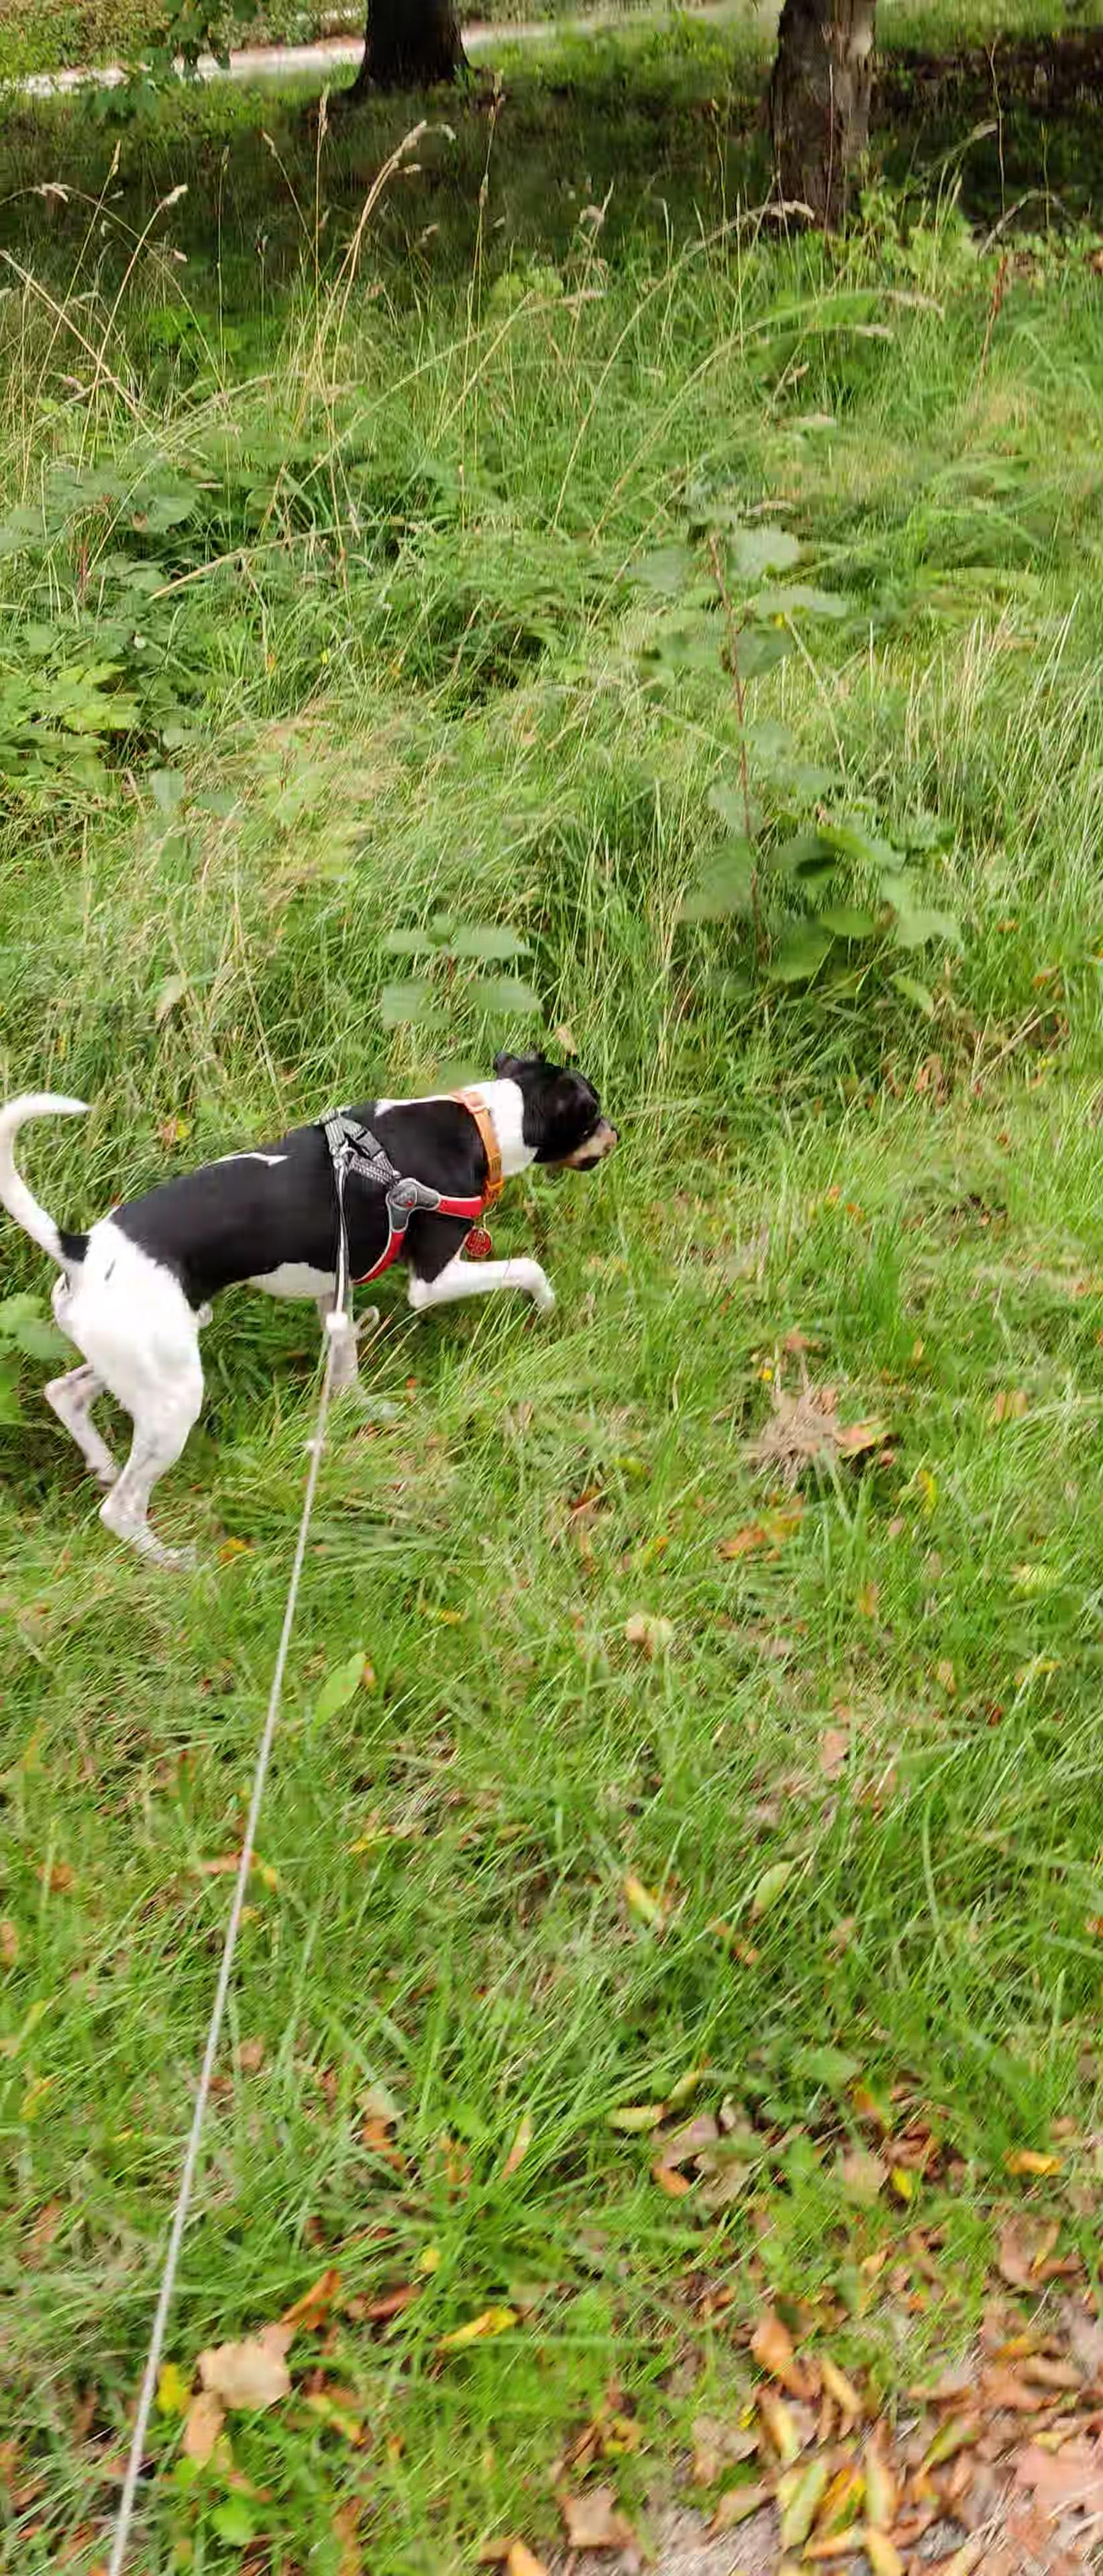Dog: (0, 1046, 646, 1577)
